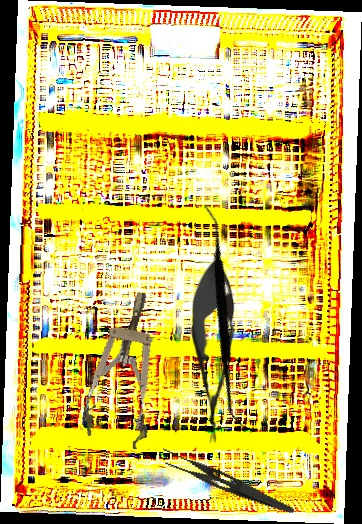Dressing Forceps: (156, 446, 300, 515)
Micro Scissor: (190, 253, 237, 446)
Spatula Surgical: (119, 204, 330, 430)
Speculum: (78, 286, 176, 451)
